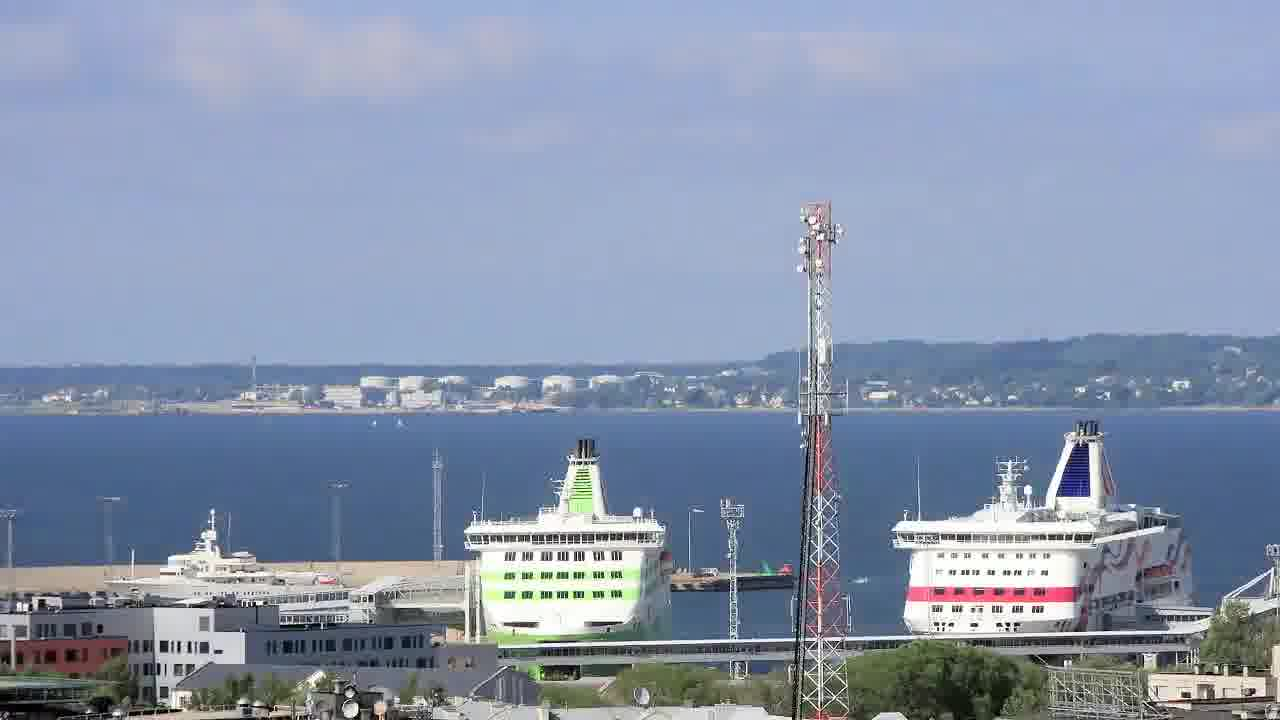type-3: (868, 415, 1225, 638), (436, 434, 694, 670), (78, 499, 358, 633)
